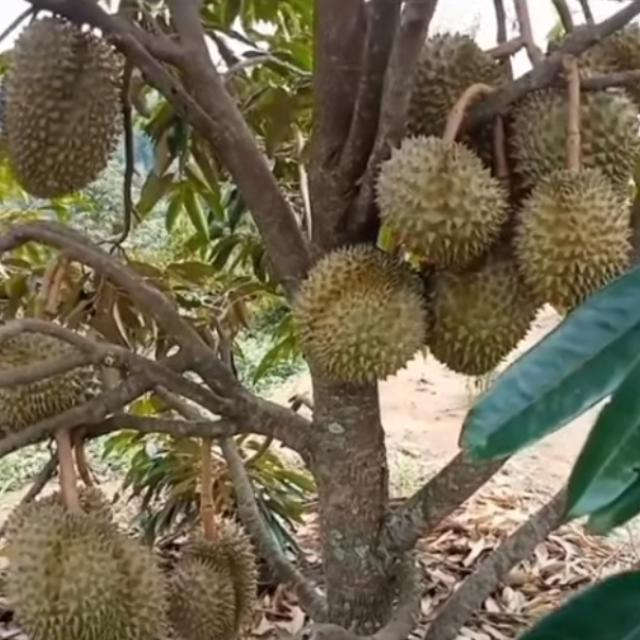mature: (0, 15, 129, 210), (419, 218, 551, 386), (284, 243, 433, 391), (505, 166, 637, 305), (0, 498, 126, 640), (368, 143, 504, 271), (0, 309, 113, 448), (166, 507, 257, 640)
